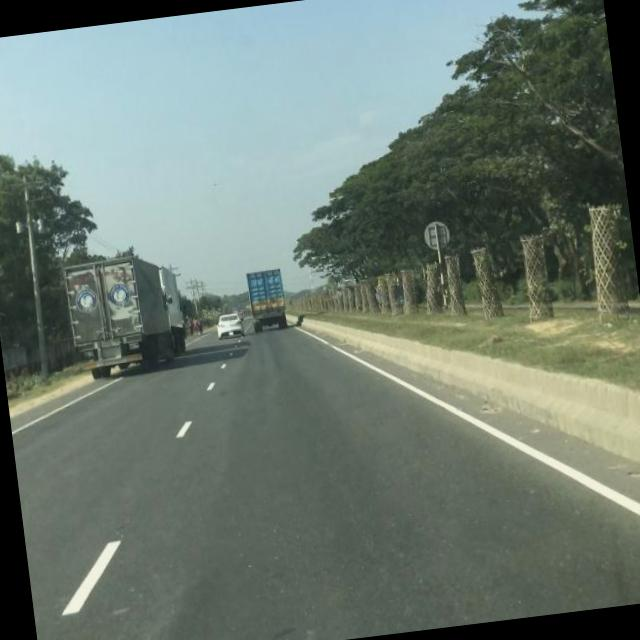car: (212, 308, 245, 337)
truck: (58, 248, 180, 380), (240, 261, 290, 332)
